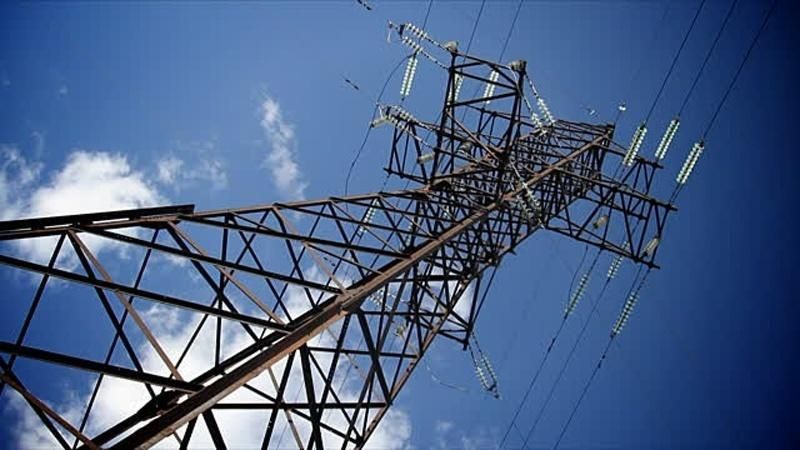power_tower: (3, 20, 709, 449), (674, 138, 710, 186), (610, 288, 644, 337), (563, 267, 593, 316), (620, 123, 652, 168), (652, 118, 684, 162), (384, 95, 418, 135), (510, 178, 542, 219), (400, 21, 434, 58), (470, 351, 498, 393), (396, 56, 422, 99), (606, 240, 633, 281), (358, 192, 382, 233), (532, 91, 558, 126), (480, 69, 502, 106), (444, 70, 462, 108), (526, 108, 548, 138), (640, 234, 662, 259)
